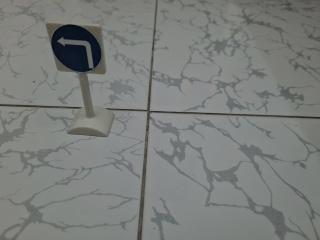left: (43, 12, 116, 86)
